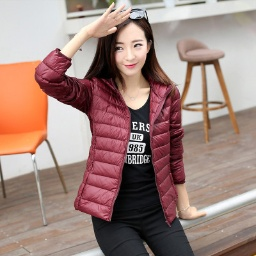face: (93, 11, 158, 81)
